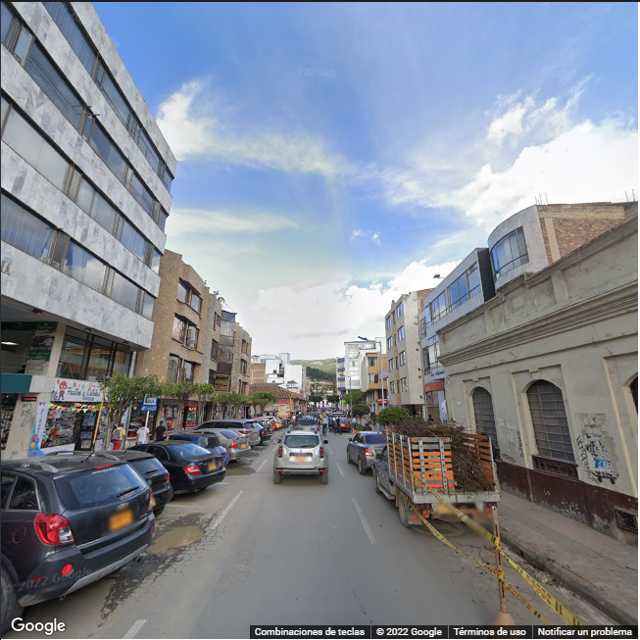D20: (180, 524, 223, 564)
D40: (145, 517, 207, 557)
